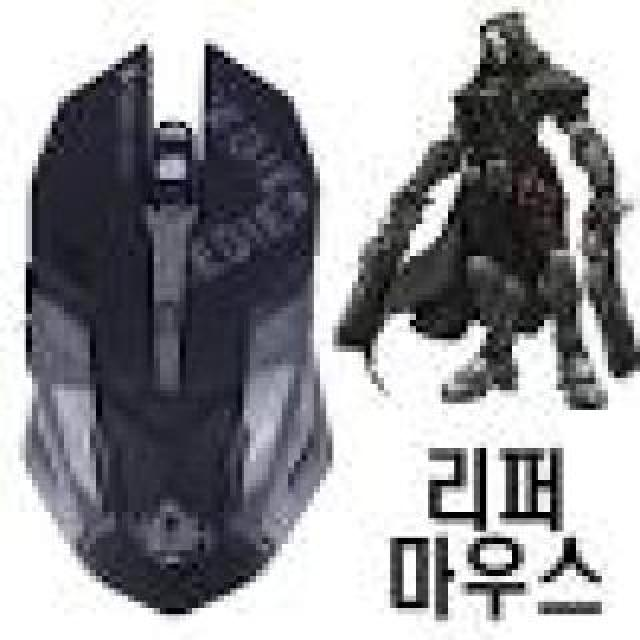mouse: (28, 0, 350, 635)
